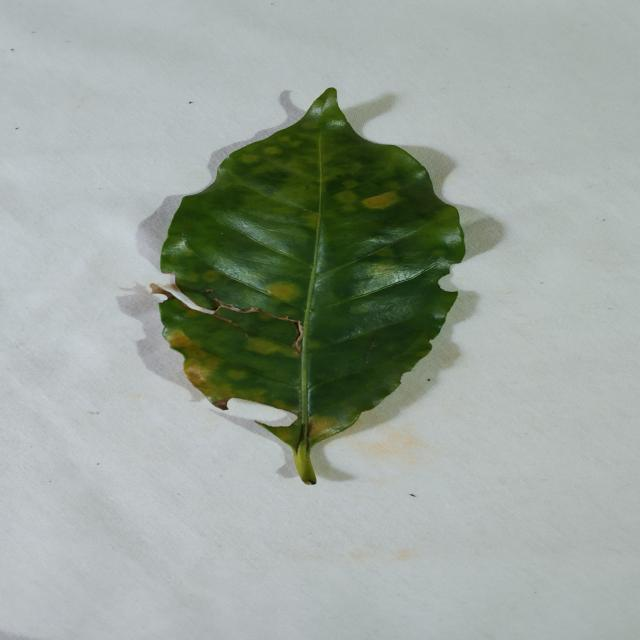Enfermedad-Roya: (149, 88, 468, 487)
